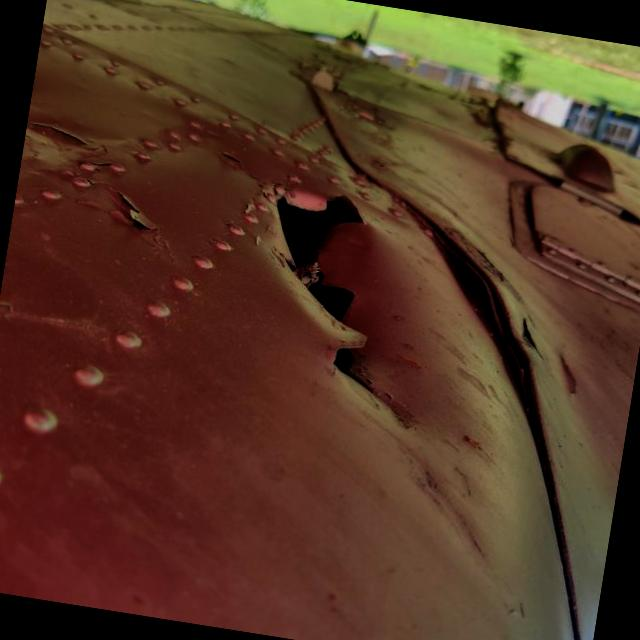crack: (215, 168, 462, 443)
paint-off: (76, 173, 175, 250), (20, 115, 121, 185)
